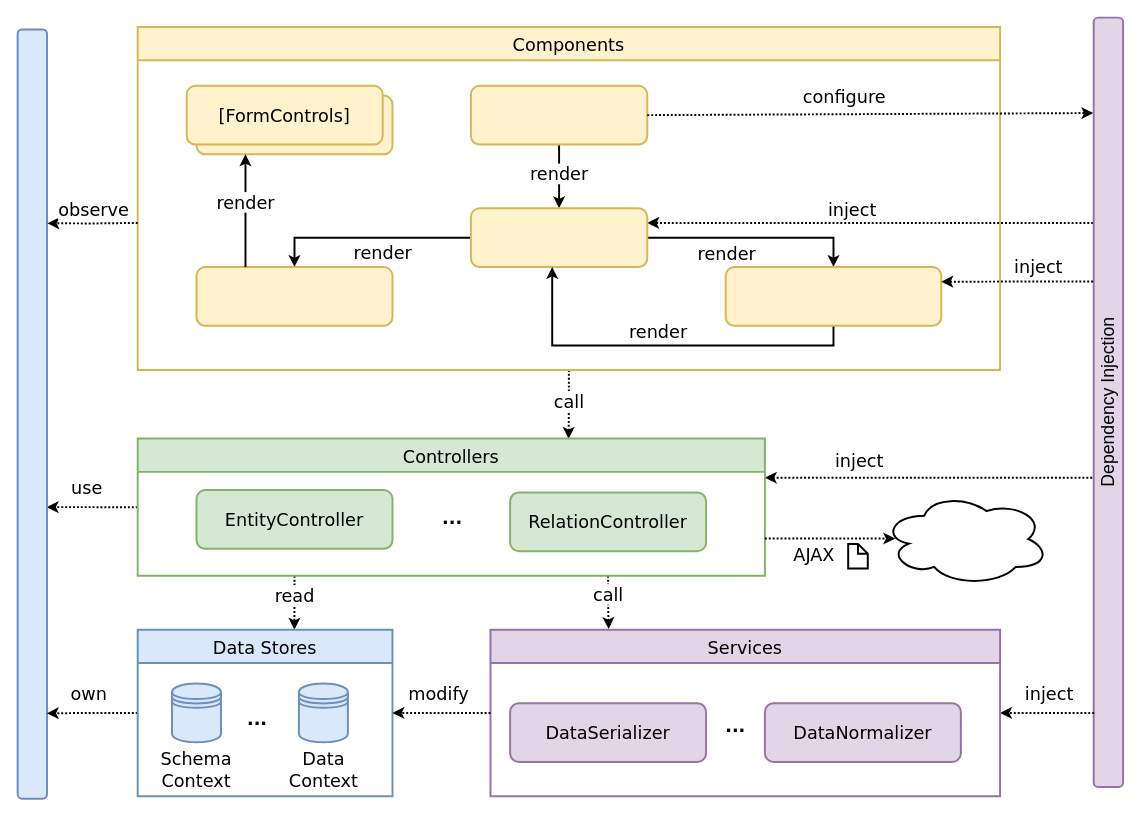
The diagram is 1141 pixels wide and 816 high, and some of its shapes have lost their labels. The shapes that lost their labels are listed below. From the top down, each one's centre as x and y in pixels, then its label:
At point (558, 114): "<ProductEditor />".
At point (558, 237): "<ArticleEditor />".
At point (294, 296): "<PlainFieldEditor />".
At point (833, 296): "<RelationFieldEditor />".
At point (32, 413): "Models".
At point (965, 538): "Backend".
